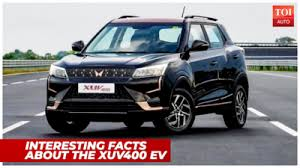XUV 400: (44, 6, 250, 135)
